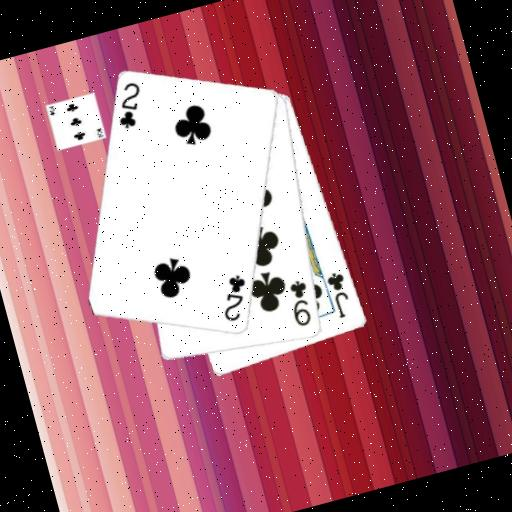2C: (211, 270, 256, 326), (107, 78, 151, 133)
9C: (281, 275, 318, 330)
JC: (322, 268, 356, 322)
